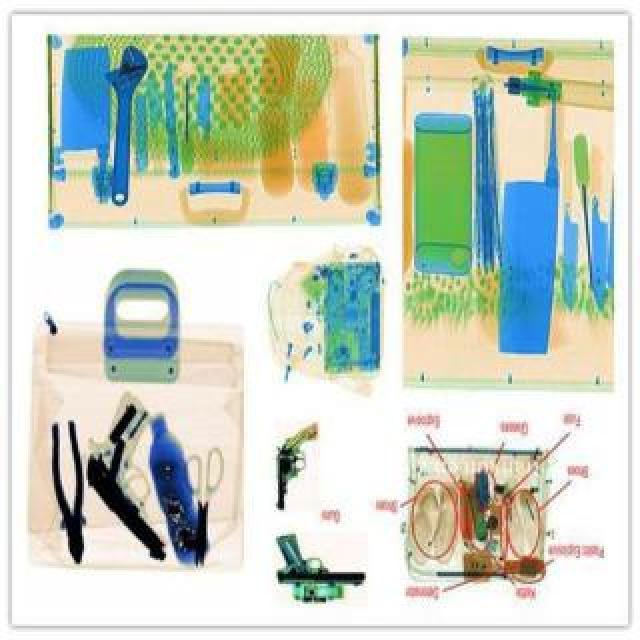gun: (274, 536, 372, 604), (276, 424, 324, 520)
knife: (498, 90, 562, 360), (184, 450, 230, 570), (562, 206, 584, 316), (594, 196, 612, 318)
scissors: (104, 50, 152, 212)
wrench: (50, 424, 88, 566)
